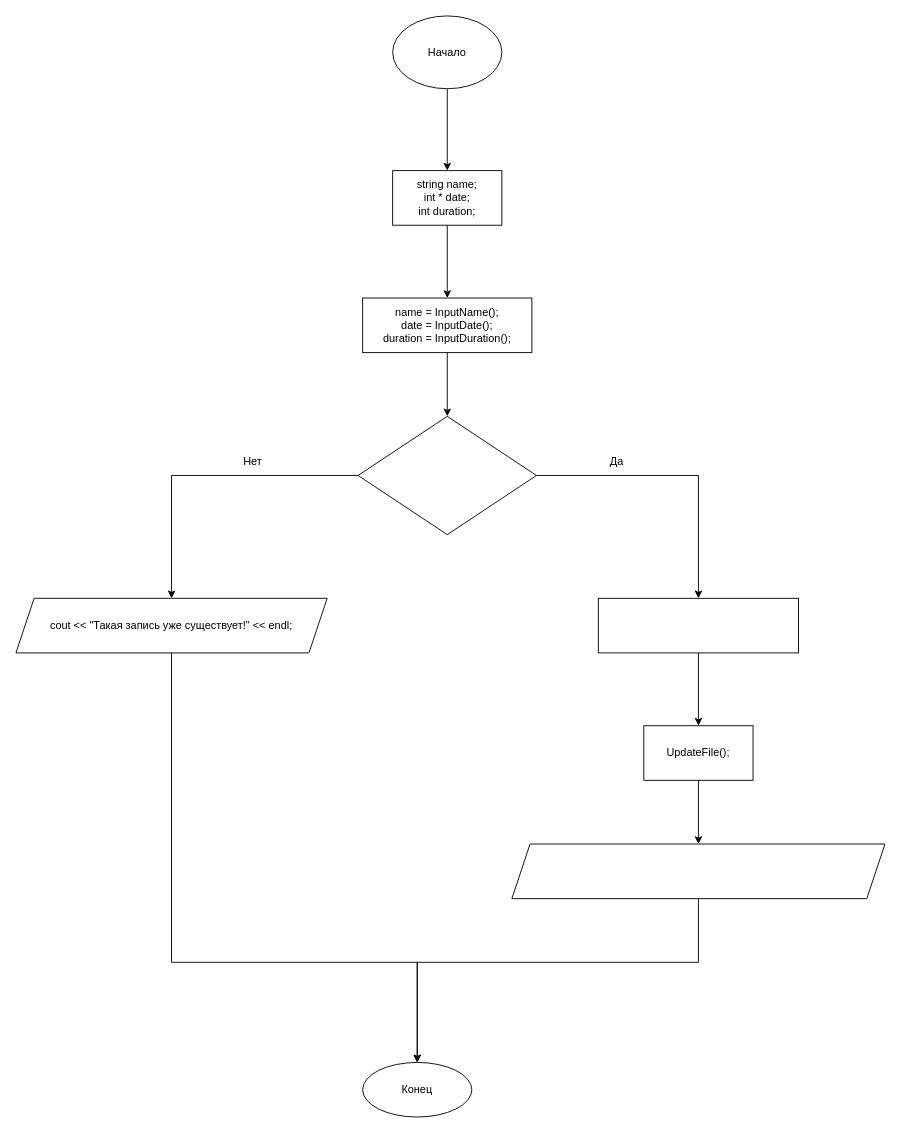
The diagram is 901 pixels wide and 1133 high, and some of its shapes have lost their labels. Here are the shapes that lost their labels. From the top down, the centre of each, then its label:
(x=446, y=475): isUnique(name, date, duration)
(x=698, y=625): AddCard(name, date, duration);
(x=698, y=871): cout << "Текущее количество карточек: " << cards.size() << endl;
